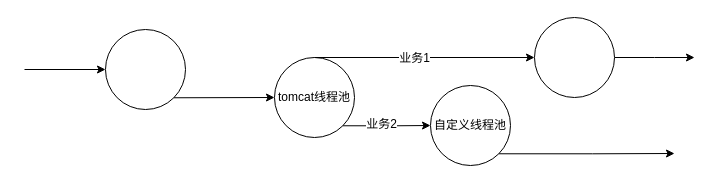
Image size: 720x183. Some labels were removed from this diagram. Here are the shapes that lost their labels. From the top down, the centre of each, then its label:
(145,69): tomcat acceptor线程
(574,57): mysql连接池
